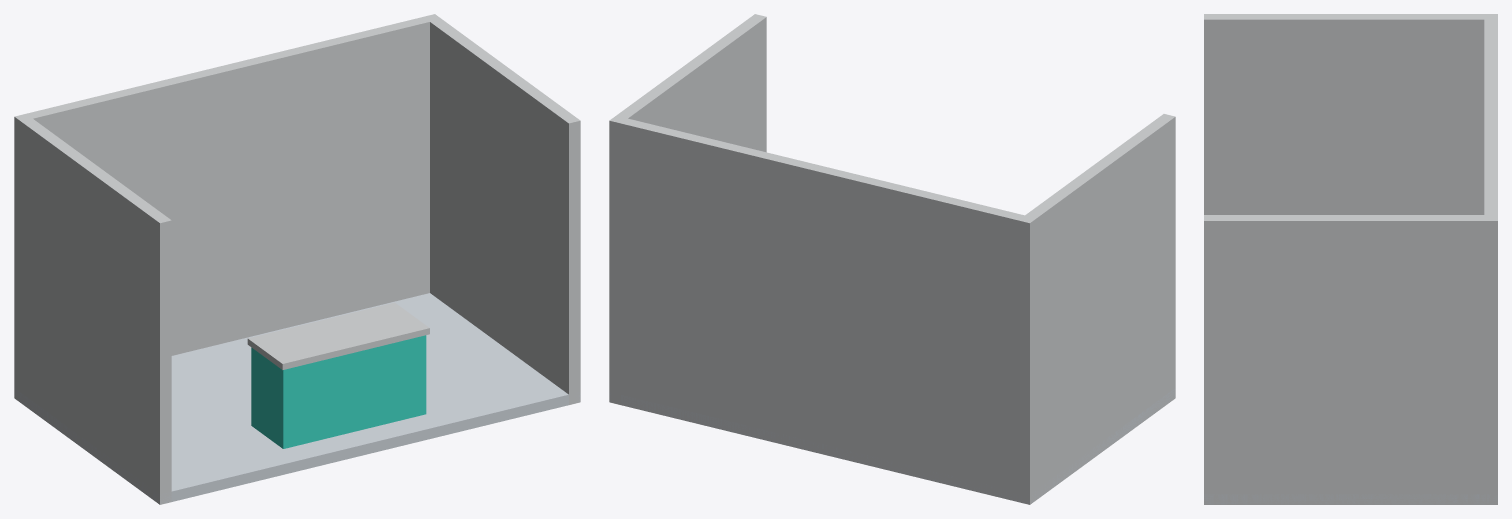
3 views of the same model, side by side, from view 1: azimuth 30°, elevation 25°; view 2: azimuth 150°, elevation 25°; view 3: azimuth 270°, elevation 25° (orthographic).
Parts seen in each view (by area): view 1: Exhibition Booth Concept; view 2: Exhibition Booth Concept; view 3: Exhibition Booth Concept.
Boxes of the visible parts, x1,y1,x2,y2 form: Exhibition Booth Concept: (14,14,580,504); Exhibition Booth Concept: (609,14,1175,504); Exhibition Booth Concept: (1204,14,1497,504).
Size of the model in its own units: 5 by 3.2 by 3.
